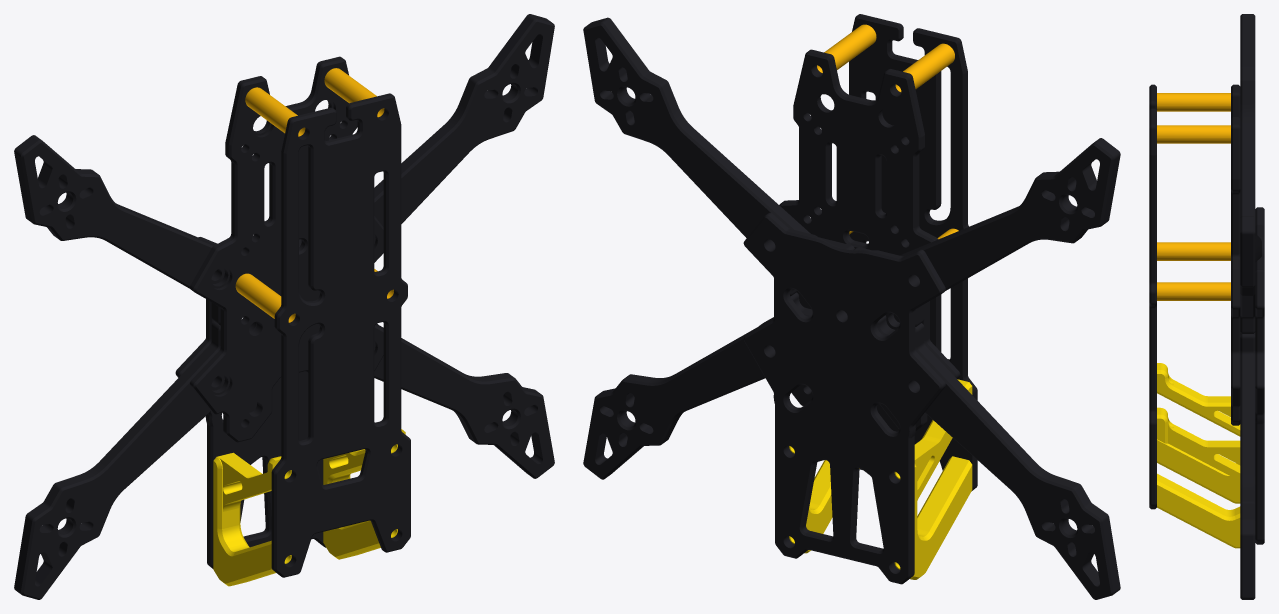
File: frame3.glb
3 views of the same model, side by side, from view 1: azimuth 30°, elevation 25°; view 2: azimuth 150°, elevation 25°; view 3: azimuth 270°, elevation 25° (orthographic). The views are drawn at different scales.
Parts seen in each view (by area): view 1: occurrence of Top, occurrence of Arm (×4), occurrence of Base-Top, occurrence of Base-Bot, occurrence of Standoff-R, occurrence of Standoff M3 F-F 20 OD5 (×3), occurrence of Standoff-L; view 2: occurrence of Arm (×4), occurrence of Base-Bot, occurrence of Base-Top, occurrence of Top, occurrence of Standoff-R, occurrence of Standoff M3 F-F 20 OD5 (×2), occurrence of Standoff-L; view 3: occurrence of Arm (×3), occurrence of Standoff M3 F-F 20 OD5 (×4), occurrence of Standoff-L, occurrence of Standoff-R, occurrence of Base-Top, occurrence of Top, occurrence of Base-Bot.
Boxes of the visible parts, x1=… form: occurrence of Top: x1=271, y1=93, x2=410, y2=577; occurrence of Arm (×4): x1=14, y1=14, x2=554, y2=599; occurrence of Base-Top: x1=190, y1=56, x2=383, y2=442; occurrence of Base-Bot: x1=175, y1=236, x2=377, y2=568; occurrence of Standoff-R: x1=213, y1=452, x2=291, y2=586; occurrence of Standoff M3 F-F 20 OD5 (×3): x1=235, y1=68, x2=384, y2=322; occurrence of Standoff-L: x1=323, y1=429, x2=405, y2=559; occurrence of Arm (×4): x1=583, y1=17, x2=1120, y2=599; occurrence of Base-Bot: x1=743, y1=212, x2=945, y2=584; occurrence of Base-Top: x1=759, y1=49, x2=960, y2=430; occurrence of Top: x1=849, y1=14, x2=977, y2=491; occurrence of Standoff-R: x1=894, y1=379, x2=972, y2=579; occurrence of Standoff M3 F-F 20 OD5 (×2): x1=817, y1=24, x2=954, y2=91; occurrence of Standoff-L: x1=789, y1=446, x2=859, y2=553; occurrence of Arm (×3): x1=1240, y1=14, x2=1255, y2=599; occurrence of Standoff M3 F-F 20 OD5 (×4): x1=1157, y1=93, x2=1230, y2=300; occurrence of Standoff-L: x1=1157, y1=407, x2=1240, y2=548; occurrence of Standoff-R: x1=1157, y1=363, x2=1240, y2=503; occurrence of Base-Top: x1=1231, y1=84, x2=1240, y2=425; occurrence of Top: x1=1149, y1=84, x2=1156, y2=509; occurrence of Base-Bot: x1=1255, y1=207, x2=1264, y2=544.
Bounding box in the file's own units: 0.1384 × 0.124 × 0.031.
